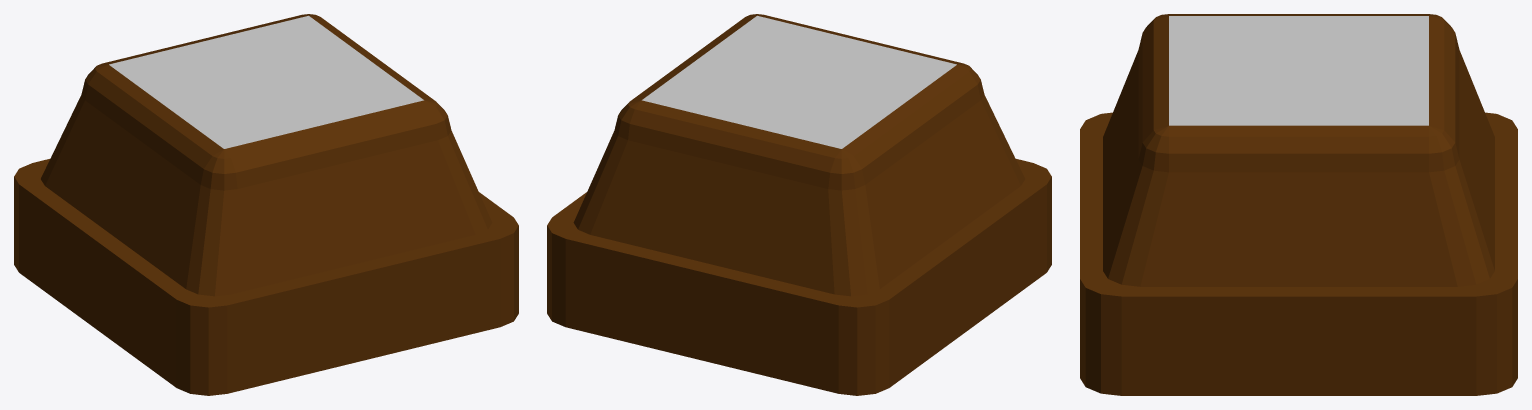
The picture shows the model from 3 angles, left to right: view 1: azimuth 30°, elevation 25°; view 2: azimuth 150°, elevation 25°; view 3: azimuth 270°, elevation 25°; orthographic projection. The views are drawn at different scales.
Visible parts, largest first — view 1: Cube; view 2: Cube; view 3: Cube.
Boxes of the visible parts, x1,y1,x2,y2 form: Cube: (14, 14, 518, 395); Cube: (547, 14, 1051, 395); Cube: (1080, 14, 1517, 395).
Bounding box in the file's own units: 223 × 139 × 223.
